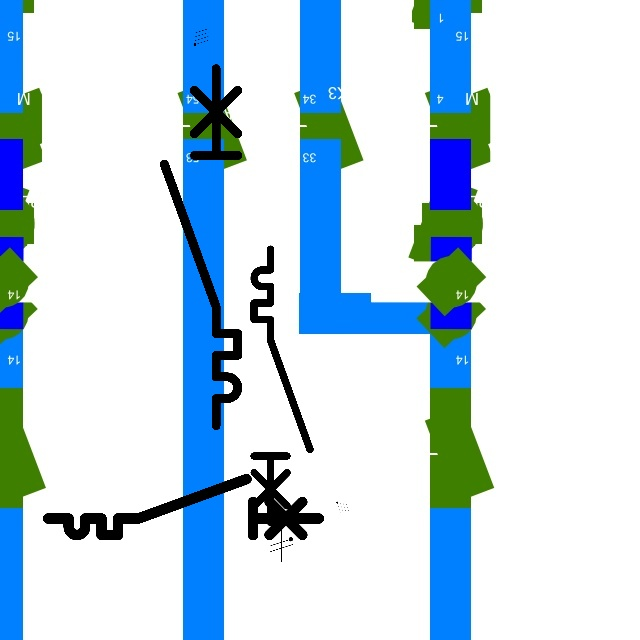interruptor_termomagnetico: (155, 59, 247, 435), (247, 242, 317, 529), (41, 472, 326, 542)
